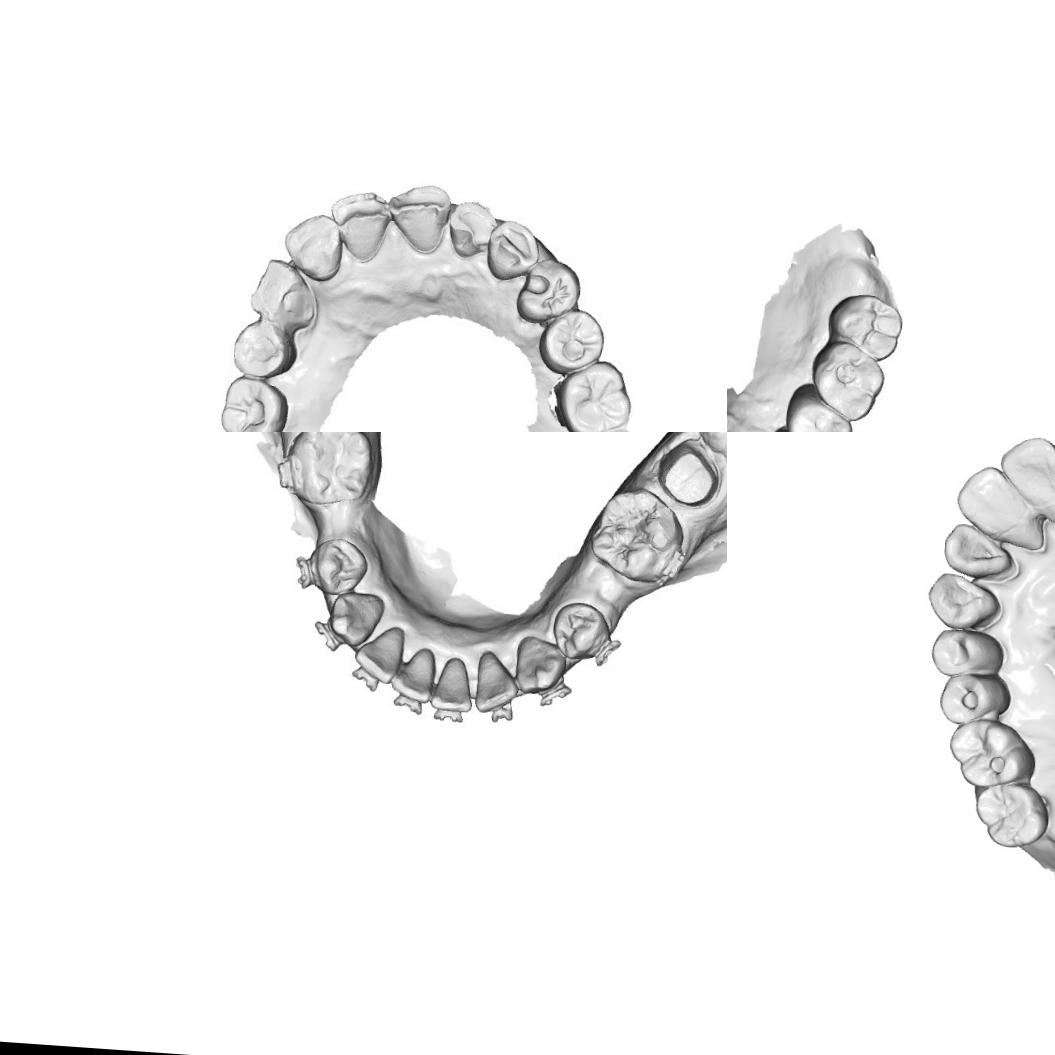canine: (246, 257, 324, 337), (924, 570, 1005, 634), (510, 632, 570, 698), (484, 218, 542, 286), (324, 588, 386, 649)
crown: (652, 439, 724, 510)
incisor: (953, 463, 1028, 528), (939, 520, 1020, 579), (995, 432, 1055, 510), (388, 184, 452, 252), (284, 212, 345, 280), (332, 190, 388, 258), (351, 621, 407, 686), (472, 648, 524, 716), (388, 644, 436, 704), (448, 200, 498, 257), (428, 655, 476, 714)
molar: (585, 482, 688, 588), (282, 432, 378, 509), (945, 714, 1039, 790), (808, 336, 884, 422), (971, 781, 1052, 850), (828, 290, 906, 358), (561, 362, 631, 432), (223, 378, 286, 432)
premolar: (772, 379, 856, 432), (936, 672, 1014, 727), (927, 626, 1007, 678), (307, 534, 370, 598), (548, 599, 610, 662), (520, 260, 578, 320), (543, 309, 602, 366), (234, 319, 291, 375)
